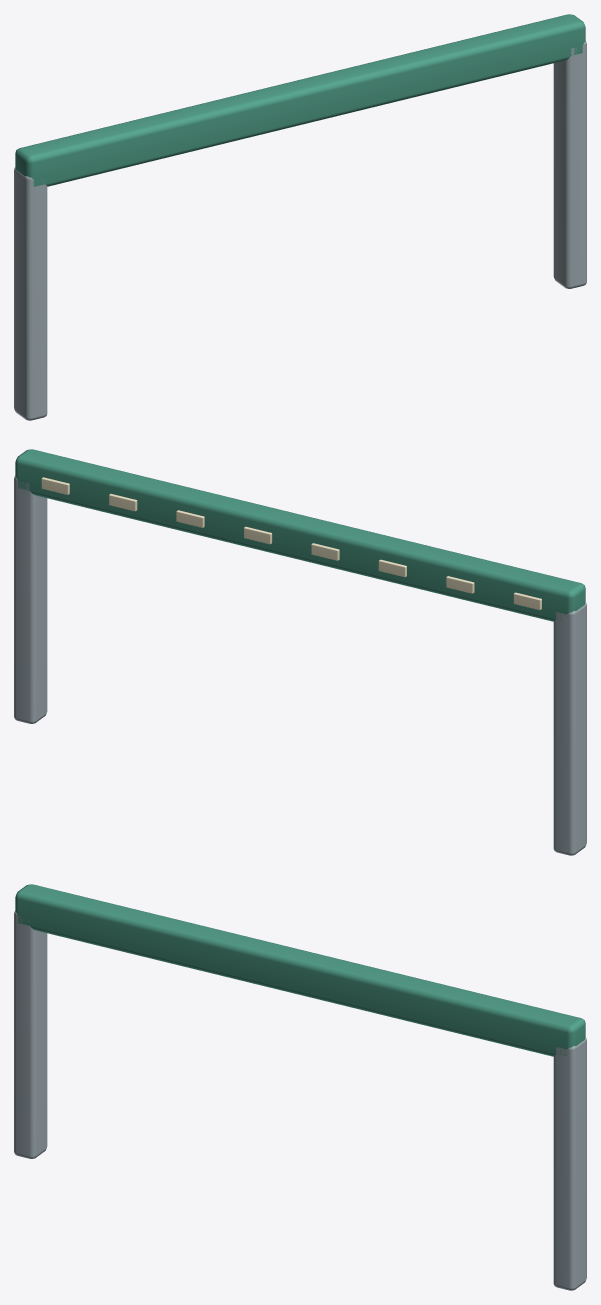
The model's file is prop-portal.glb.
3 views of the same model, one above another, from view 1: azimuth 30°, elevation 25°; view 2: azimuth 150°, elevation 25°; view 3: azimuth 330°, elevation 25° (orthographic).
Parts seen in each view (by area): view 1: Arch, Pillar, Pillar.001; view 2: Arch, Pillar, Pillar.001; view 3: Arch, Pillar.001, Pillar.
Boxes of the visible parts, <box> form: Arch: <box>15,14,585,186</box>; Pillar: <box>14,167,47,420</box>; Pillar.001: <box>553,41,586,288</box>; Arch: <box>15,449,585,621</box>; Pillar: <box>553,602,586,855</box>; Pillar.001: <box>14,476,47,723</box>; Arch: <box>15,884,585,1056</box>; Pillar.001: <box>553,1037,586,1290</box>; Pillar: <box>14,911,47,1158</box>.
Size of the model in its own units: 16.65 by 7.5 by 0.9.
